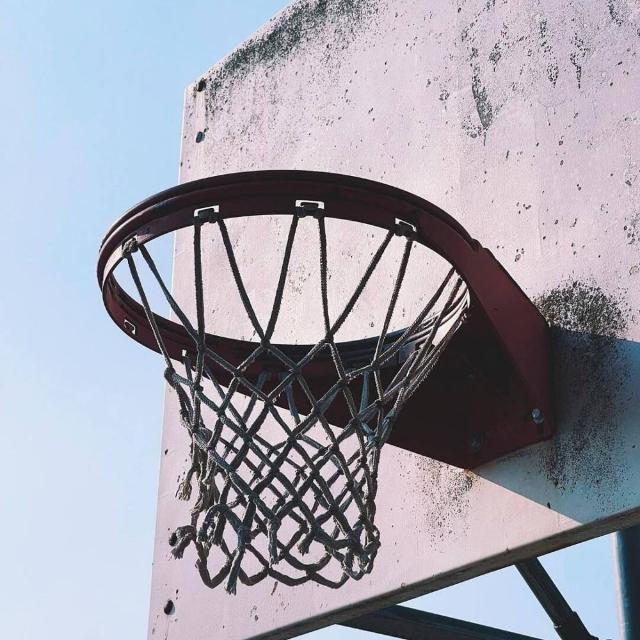rim: (98, 169, 476, 579)
